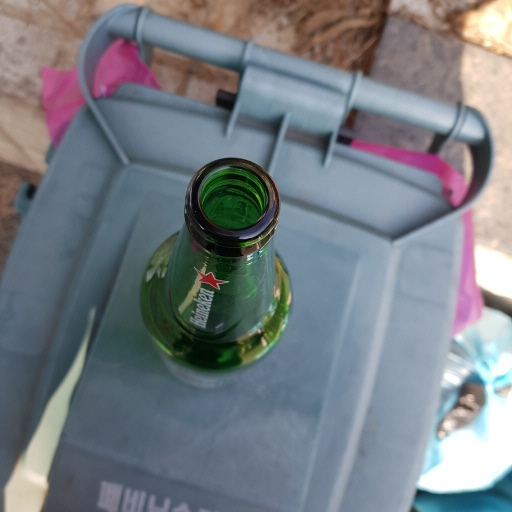Glass_1: (136, 152, 294, 393)
